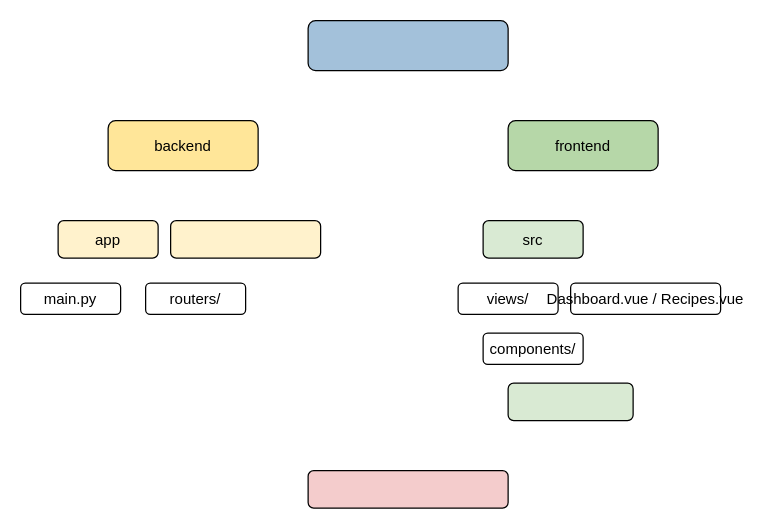
The diagram is 765 pixels wide and 529 high, and some of its shapes have lost their labels. Each missing label, with the centre of its shape:
"docker-compose.yml" goes at point 407,488.
"Grocery-Mate" goes at point 407,45.
"package.json" goes at point 570,401.
"requirements.txt" goes at point 245,238.
